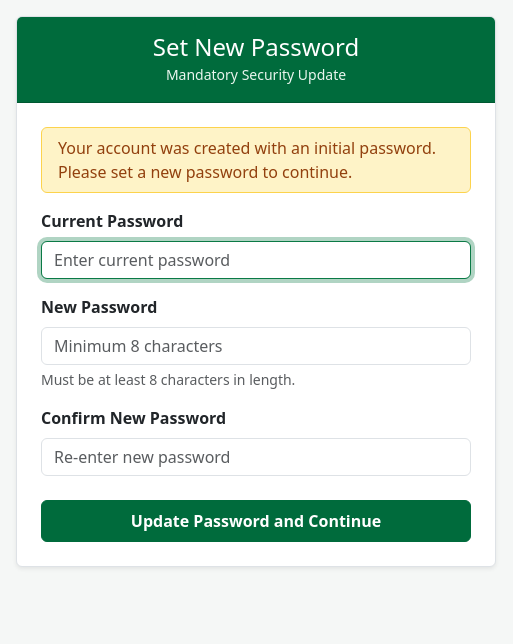
Test case: UI-PASS-01: Change Password Component › enforces minimum 8 characters for the new password
The image size is (513, 644).
Type "Password123!" into the password field labelled "Current Password" at (256, 260), box [41,241,471,279]
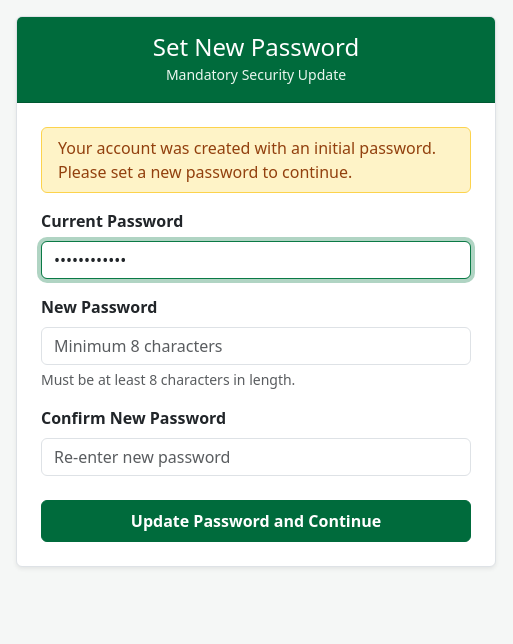
Type "short" into the password field labelled "New Password" at (256, 346), box [41,327,471,365]
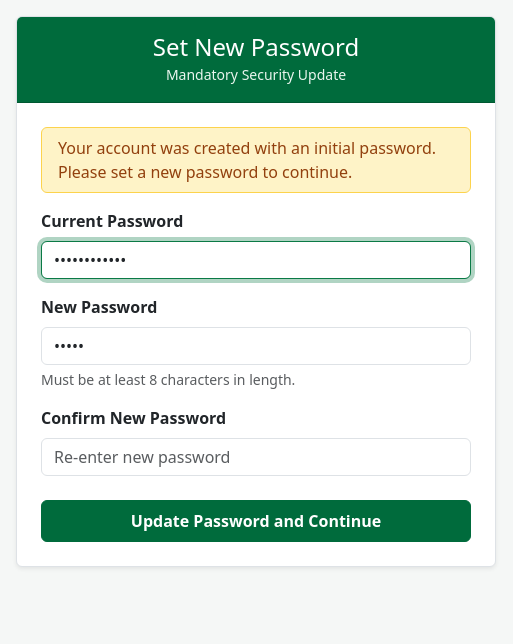
Type "short" into the password field labelled "Confirm New Password" at (256, 457), box [41,438,471,476]
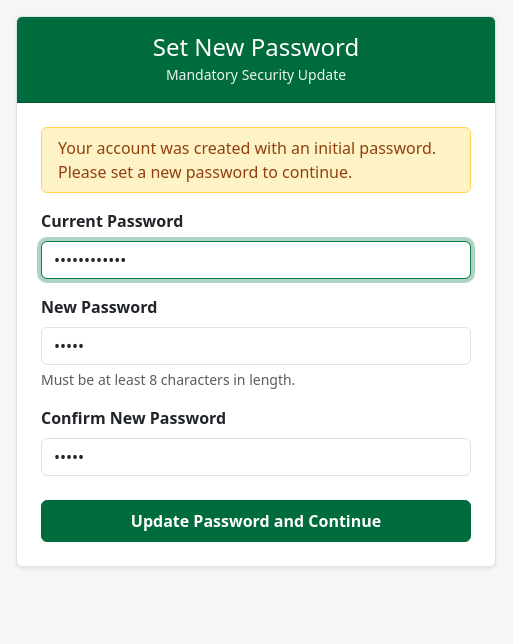
Click the button "Update Password and Continue" at (256, 521), box [41,500,471,542]
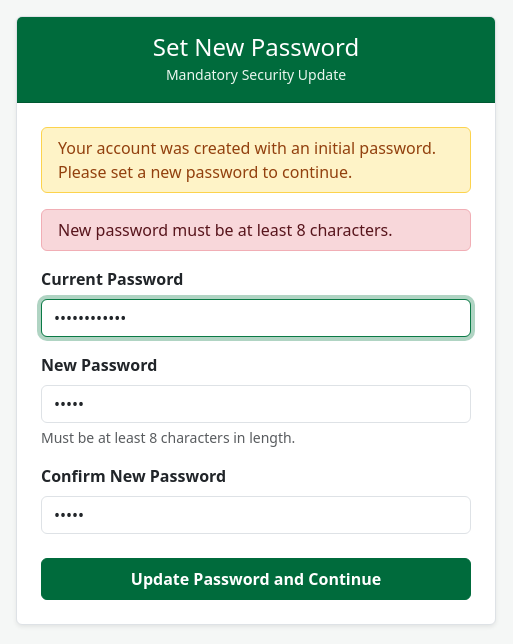
Check: the text "New password must be at least 8 characters." is shown, box [41,209,471,251]
